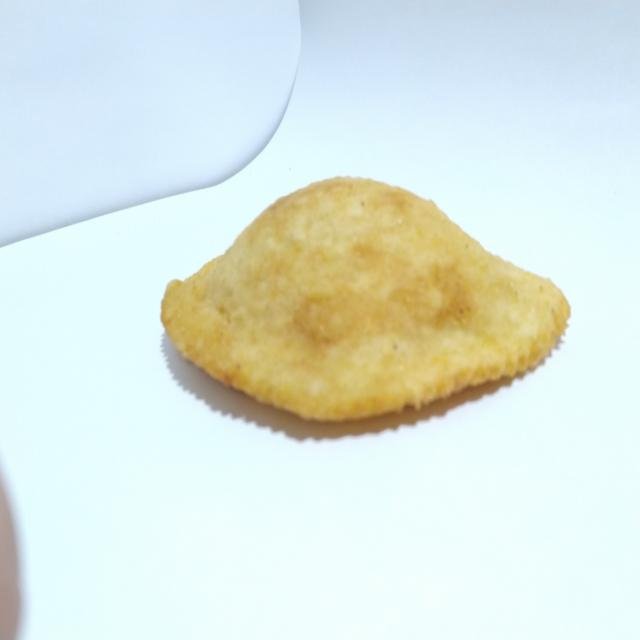Food: (152, 158, 578, 446)
